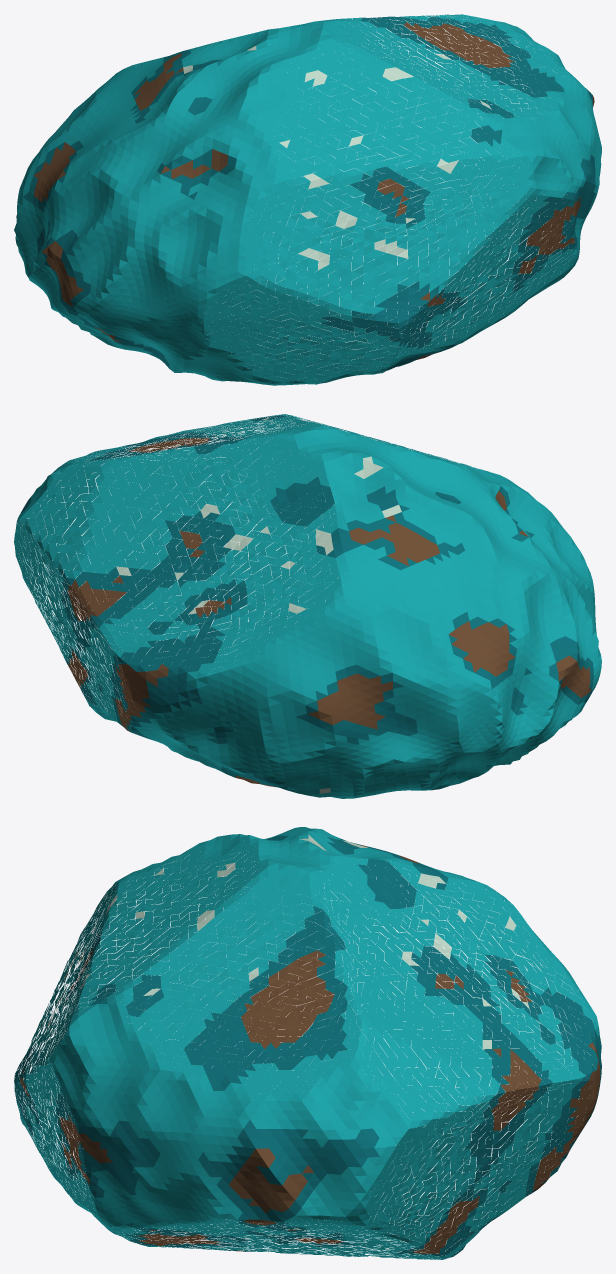
The model's file is batu_bacan.glb.
3 renders of one model, top to bottom at view 1: azimuth 30°, elevation 25°; view 2: azimuth 150°, elevation 25°; view 3: azimuth 270°, elevation 25°, orthographic. The views are drawn at different scales.
Visible parts, largest first — view 1: batu_bacan_body; view 2: batu_bacan_body; view 3: batu_bacan_body.
Part boxes in pixels (x1=…): batu_bacan_body: x1=14, y1=14, x2=601, y2=385; batu_bacan_body: x1=14, y1=414, x2=601, y2=798; batu_bacan_body: x1=14, y1=827, x2=601, y2=1259.
Size of the model in its own units: 0.1034 by 0.0497 by 0.0849.
